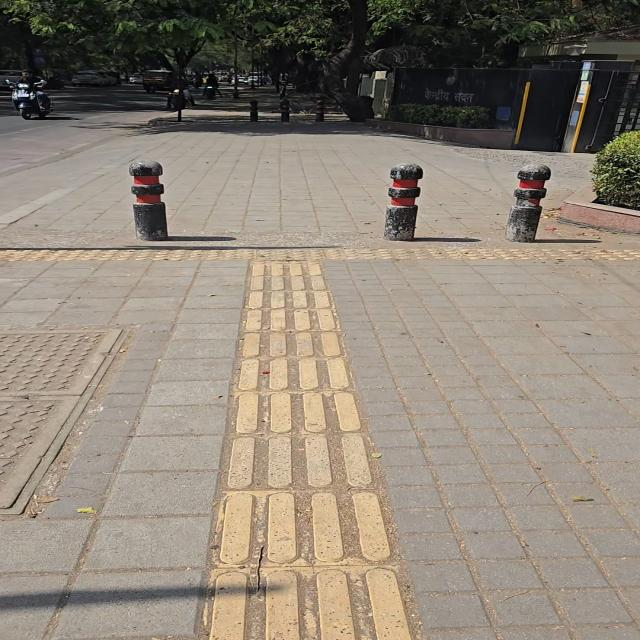bollard: (506, 165, 551, 242), (384, 164, 423, 240), (130, 161, 167, 240), (280, 99, 290, 121), (316, 100, 324, 121), (250, 100, 258, 121)
pole: (233, 30, 239, 99)
